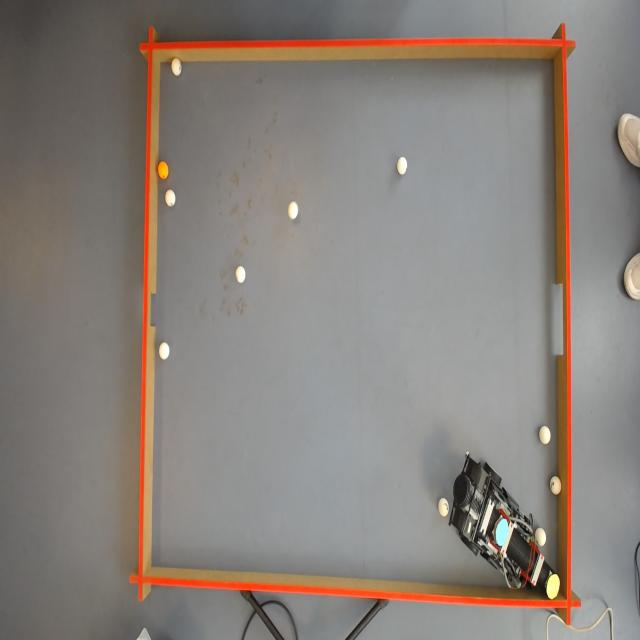orange: (158, 161, 170, 179)
robot: (444, 456, 560, 594)
robot-front: (546, 574, 560, 600)
robot-rear: (496, 518, 508, 546)
white: (540, 426, 554, 446), (536, 530, 550, 550), (550, 474, 562, 494), (438, 499, 450, 518), (159, 340, 171, 358), (164, 190, 176, 208), (398, 156, 408, 176), (288, 201, 299, 219), (171, 58, 183, 74), (236, 267, 247, 282)
